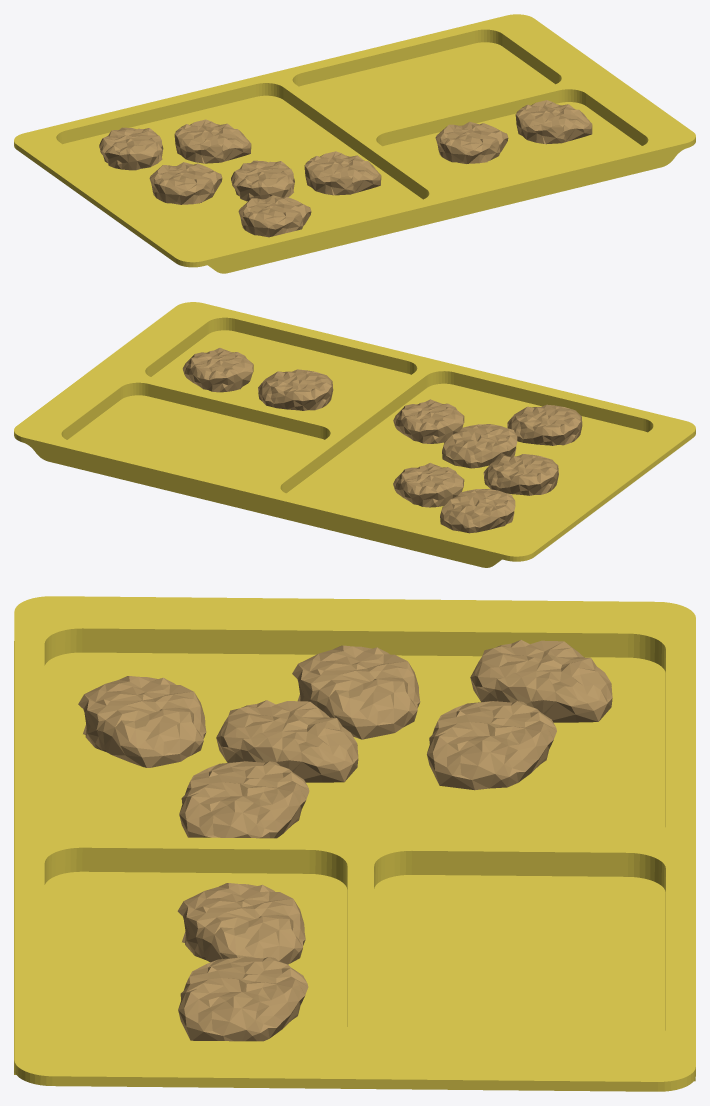
Rendered from TrayYellowFood.dae.
3 views of the same model, one above another, from view 1: azimuth 30°, elevation 25°; view 2: azimuth 150°, elevation 25°; view 3: azimuth 270°, elevation 25° (orthographic). The views are drawn at different scales.
Parts seen in each view (by area): view 1: tray-yellow, flat bottom nugget.006; view 2: tray-yellow, flat bottom nugget.006; view 3: tray-yellow, flat bottom nugget.006.
Part boxes in pixels (x1,y1,x2,y2): tray-yellow: (14, 14, 695, 273); flat bottom nugget.006: (99, 100, 592, 237); tray-yellow: (14, 302, 695, 567); flat bottom nugget.006: (182, 348, 582, 533); tray-yellow: (14, 596, 695, 1091); flat bottom nugget.006: (78, 640, 612, 1041).
Size of the model in its own units: 0.6 by 0.3602 by 0.0315.
